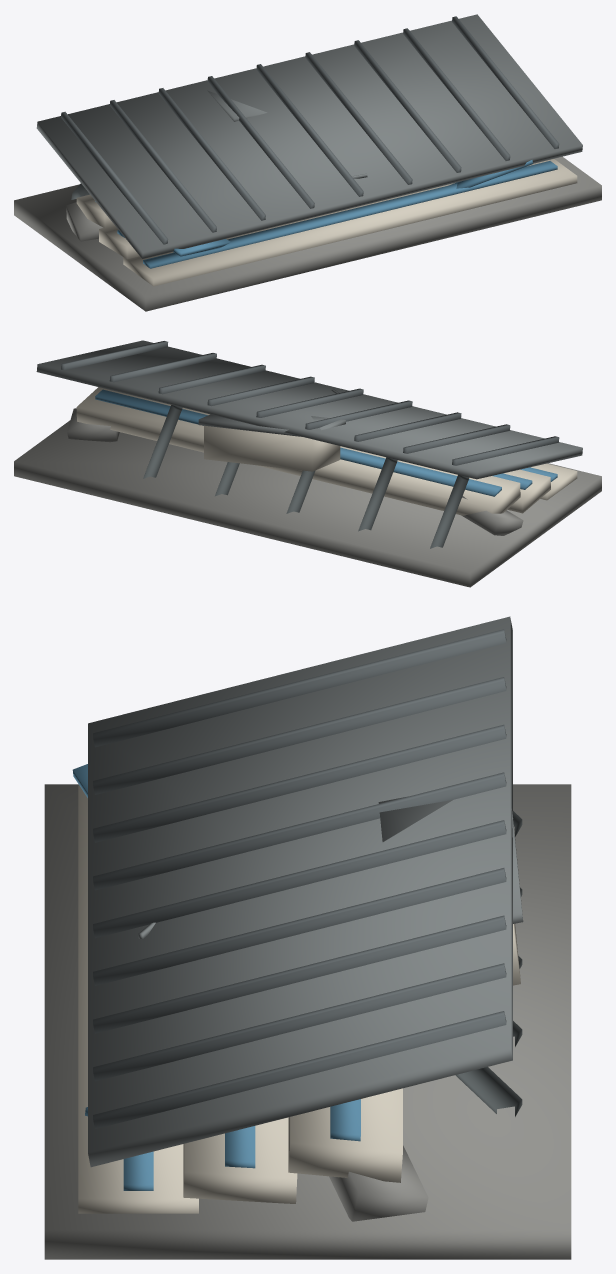
Rendered from grandstand-wreck.glb.
3 renders of one model, top to bottom at view 1: azimuth 30°, elevation 25°; view 2: azimuth 150°, elevation 25°; view 3: azimuth 270°, elevation 25°, orthographic. The views are drawn at different scales.
Visible parts, largest first — view 1: world; view 2: world; view 3: world.
Part boxes in pixels (x1,y1,x2,y2): world: (14,14,601,311); world: (14,340,601,587); world: (44,616,571,1259).
Bounding box in the file's own units: 28 × 6.3 × 14.
